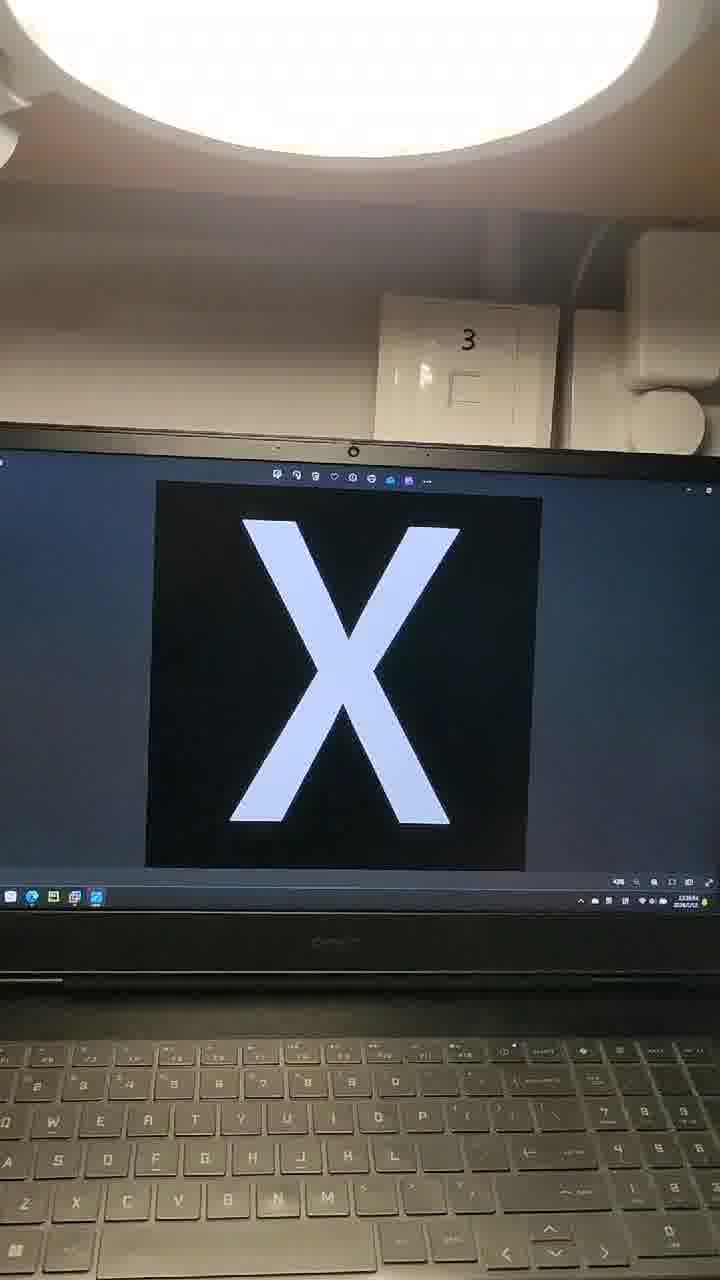X: (250, 518, 560, 879)
